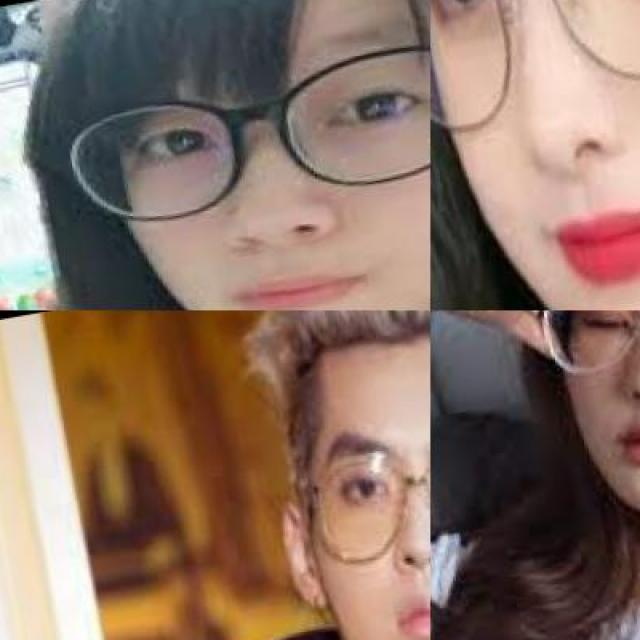Glasses: (58, 30, 428, 246), (430, 0, 640, 155), (297, 418, 428, 594), (521, 310, 640, 427)
